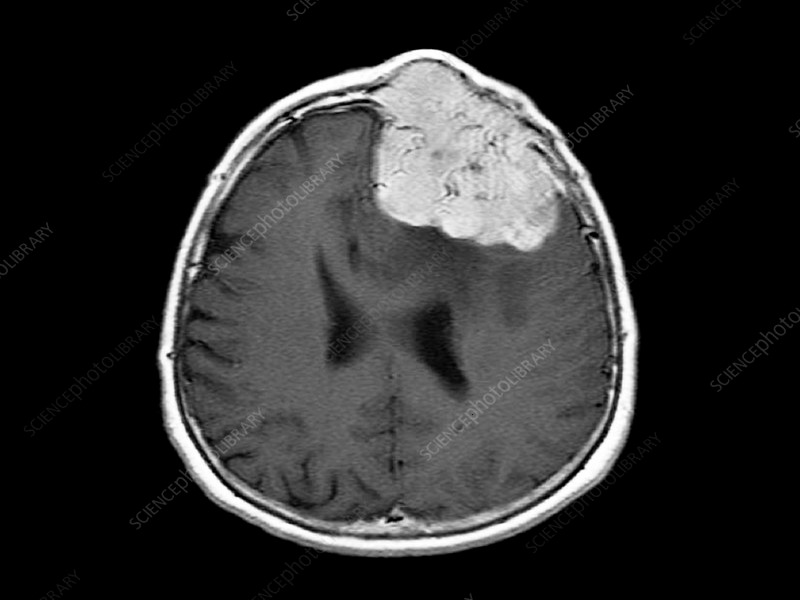tumor: (366, 95, 522, 252)
